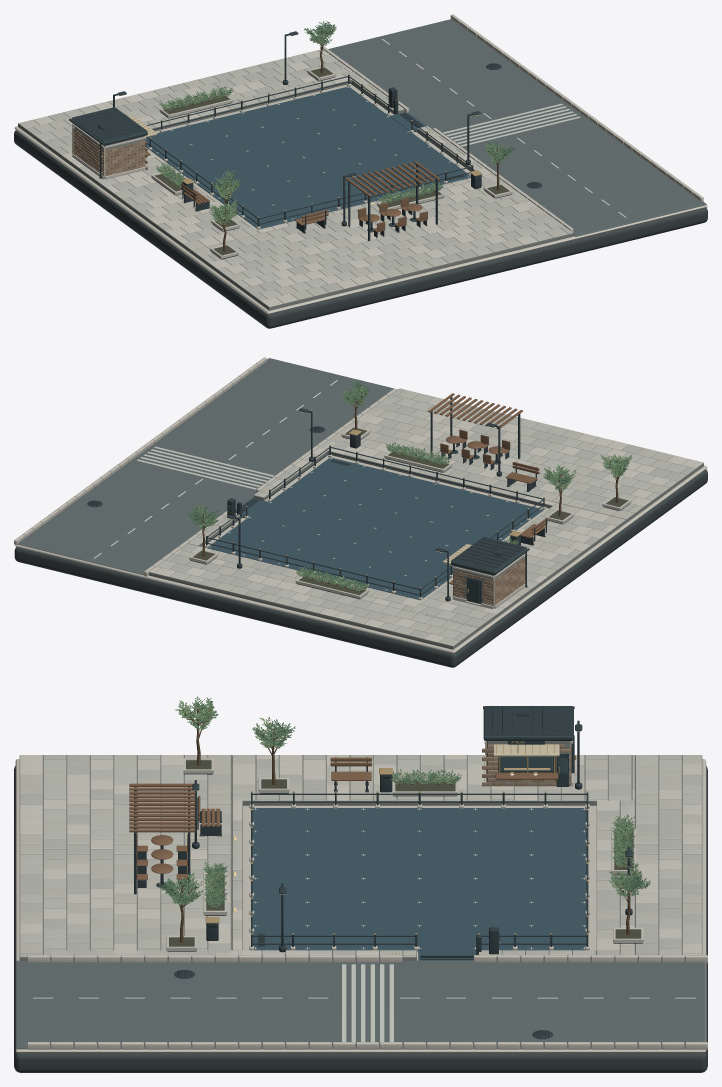
File: garage.glb
3 renders of one model, top to bottom at view 1: azimuth 30°, elevation 25°; view 2: azimuth 150°, elevation 25°; view 3: azimuth 270°, elevation 25°, orthographic. The views are drawn at different scales.
Parts seen in each view (by area): view 1: Street asphalt, Asphalt blue slate, Basalt foundation, Limestone paver 1, Limestone paver 0, Limestone paver 2, Limestone paver 3, Recessed mortar, Honed warm limestone, Graphite powdercoat, Courtyard foliage detail, Oiled oak (+9 smaller); view 2: Street asphalt, Asphalt blue slate, Basalt foundation, Limestone paver 1, Limestone paver 0, Limestone paver 2, Limestone paver 3, Recessed mortar, Honed warm limestone, Graphite powdercoat, Courtyard foliage detail, Oiled oak (+7 smaller); view 3: Street asphalt, Asphalt blue slate, Limestone paver 1, Limestone paver 0, Honed warm limestone, Limestone paver 2, Limestone paver 3, Basalt foundation, Recessed mortar, Graphite powdercoat, Oiled oak, Courtyard foliage detail (+9 smaller).
Part boxes in pixels (box(x1,y1,x2,y2)): Street asphalt: box(328, 19, 706, 236); Asphalt blue slate: box(145, 86, 470, 229); Basalt foundation: box(14, 74, 707, 328); Limestone paver 1: box(26, 57, 573, 300); Limestone paver 0: box(18, 65, 567, 299); Limestone paver 2: box(33, 49, 537, 306); Limestone paver 3: box(33, 54, 561, 298); Recessed mortar: box(18, 50, 573, 310); Honed warm limestone: box(14, 14, 707, 314); Graphite powdercoat: box(71, 31, 542, 240); Courtyard foliage detail: box(156, 21, 513, 224); Oiled oak: box(145, 151, 440, 232); Street asphalt: box(18, 358, 397, 575); Asphalt blue slate: box(207, 457, 543, 599); Basalt foundation: box(14, 434, 707, 667); Limestone paver 1: box(165, 388, 694, 640); Limestone paver 0: box(177, 389, 673, 645); Limestone paver 2: box(149, 397, 703, 642); Limestone paver 3: box(157, 393, 687, 638); Recessed mortar: box(149, 390, 703, 649); Honed warm limestone: box(14, 357, 707, 653); Graphite powdercoat: box(87, 397, 546, 601); Courtyard foliage detail: box(186, 379, 632, 590); Oiled oak: box(428, 393, 547, 584); Street asphalt: box(16, 960, 705, 1049); Asphalt blue slate: box(252, 808, 586, 960); Limestone paver 1: box(20, 755, 701, 956); Limestone paver 0: box(20, 755, 701, 956); Honed warm limestone: box(15, 759, 707, 1052); Limestone paver 2: box(20, 755, 701, 956); Limestone paver 3: box(20, 755, 701, 956); Basalt foundation: box(14, 766, 707, 1072); Recessed mortar: box(19, 741, 702, 960); Graphite powdercoat: box(134, 706, 632, 1039); Oiled oak: box(129, 757, 558, 880); Courtyard foliage detail: box(158, 696, 650, 907).
Bounding box in the file's own units: 12.4 × 1.94 × 12.4.
